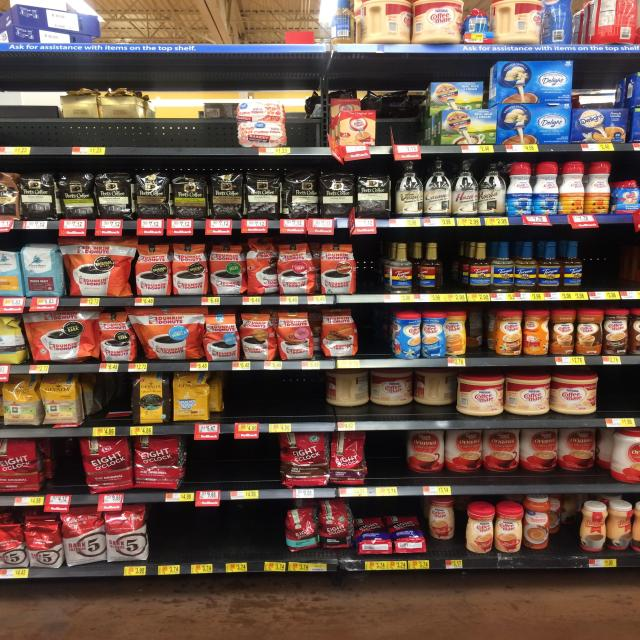empty: (149, 508, 283, 561), (226, 372, 326, 415), (187, 439, 276, 485), (584, 233, 638, 290), (379, 97, 426, 145), (600, 368, 640, 416), (285, 103, 328, 147), (367, 431, 401, 484), (1, 92, 60, 119), (359, 308, 391, 357), (356, 245, 385, 292), (55, 439, 79, 490), (154, 97, 202, 119), (440, 243, 459, 291)
